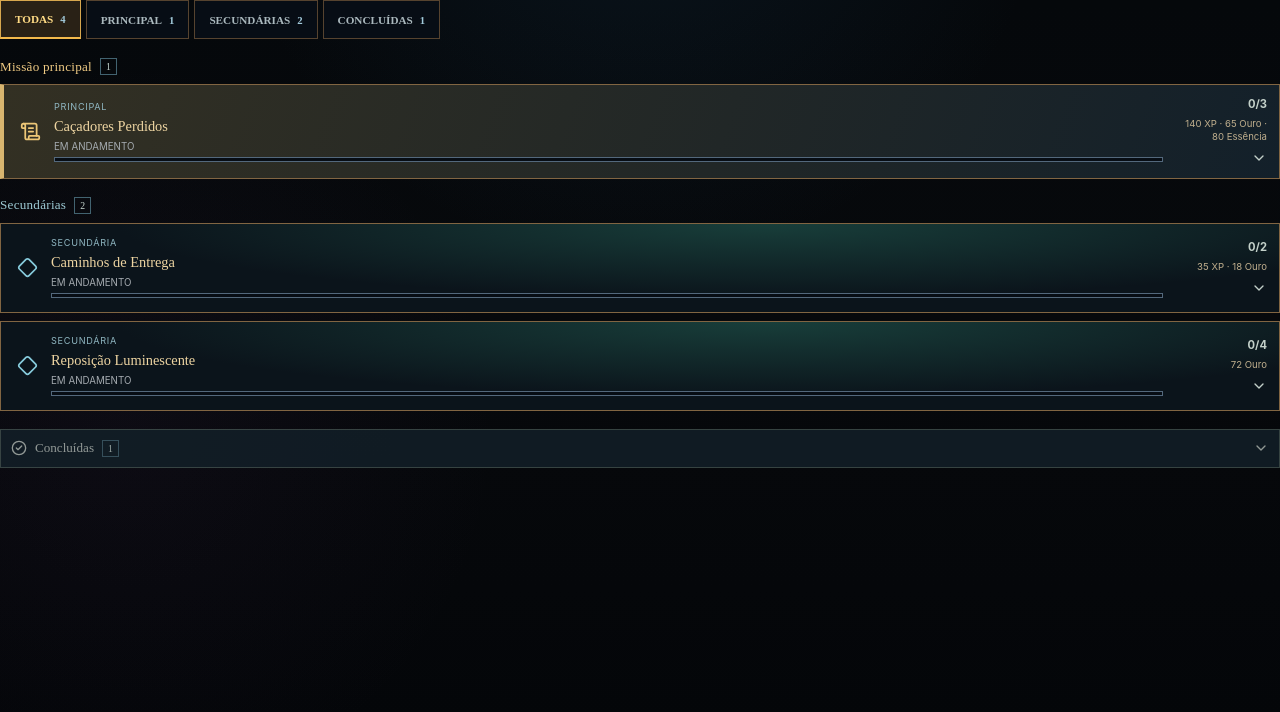
Test: Registro visual de missões › prioriza a história em andamento, empilha secundárias e deixa concluídas no final
Check: the element named "Missão principal" shows "Caçadores Perdidos", box [0, 84, 1279, 179]
Check: the element showing "Concluídas 1" does not show "O Primeiro Rastro", box [0, 429, 1279, 477]
Click the button with aria-label "Expandir missões concluídas (1)".
click(64, 448)  # box [0, 429, 1279, 468]
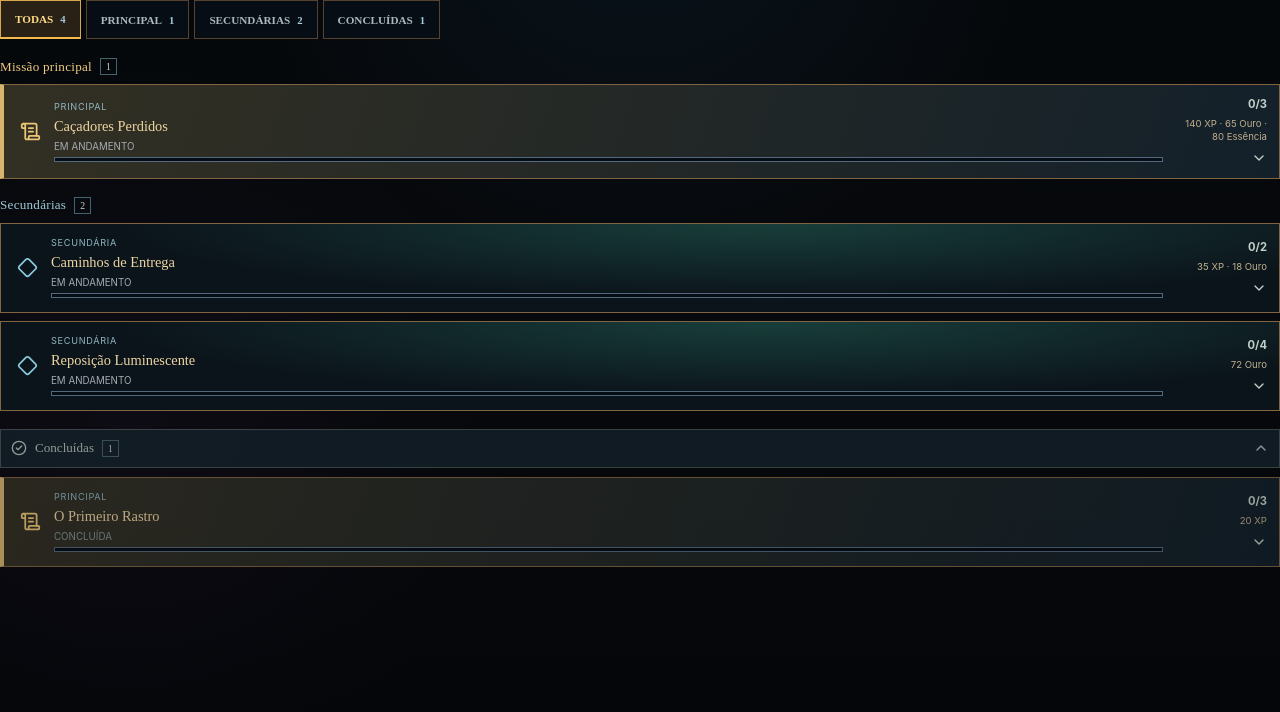
Check: the element showing "Concluídas 1 Principal O Primeiro Rastro Concluída 0/3 20 XP" is shown, box [0, 429, 1279, 567]
Click the button with aria-label "Recolher missões concluídas (1)".
click(64, 448)  # box [0, 429, 1279, 468]
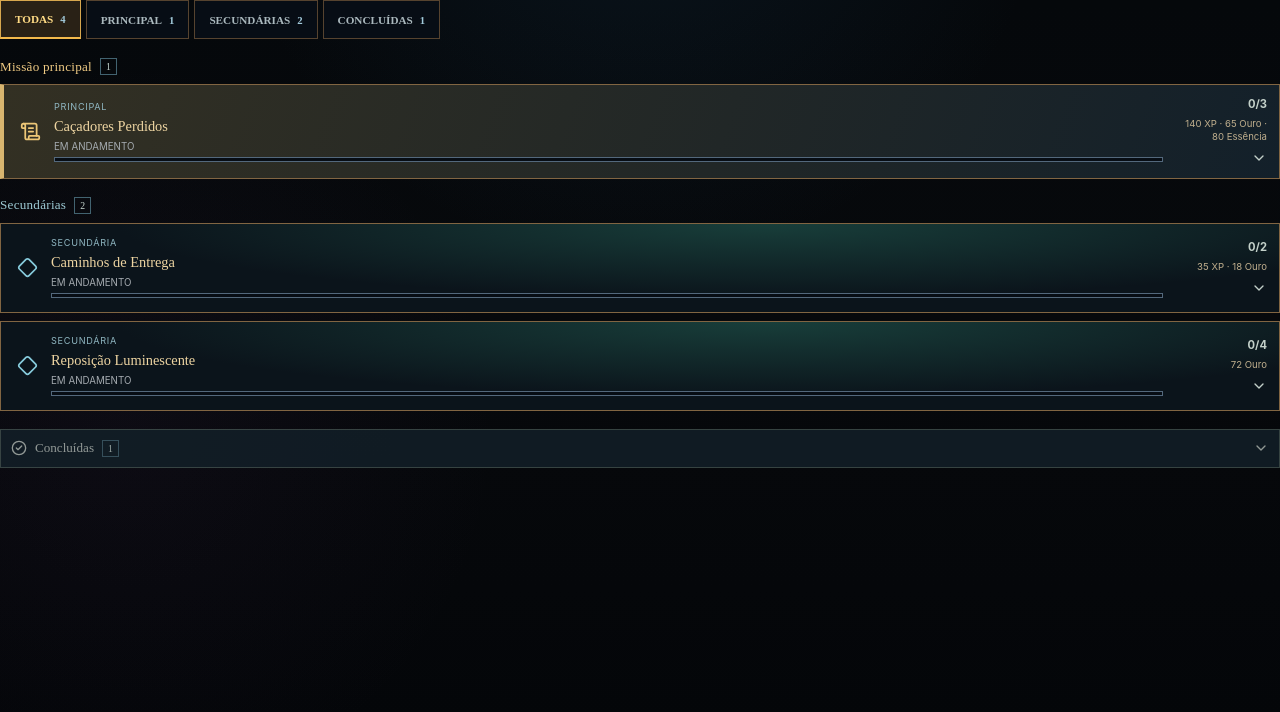
Check: the element showing "Concluídas 1" no longer shows "O Primeiro Rastro", box [0, 429, 1279, 477]
Click the button with aria-label "Detalhes da missão Caçadores Perdidos".
click(81, 107)  # box [0, 84, 1279, 179]
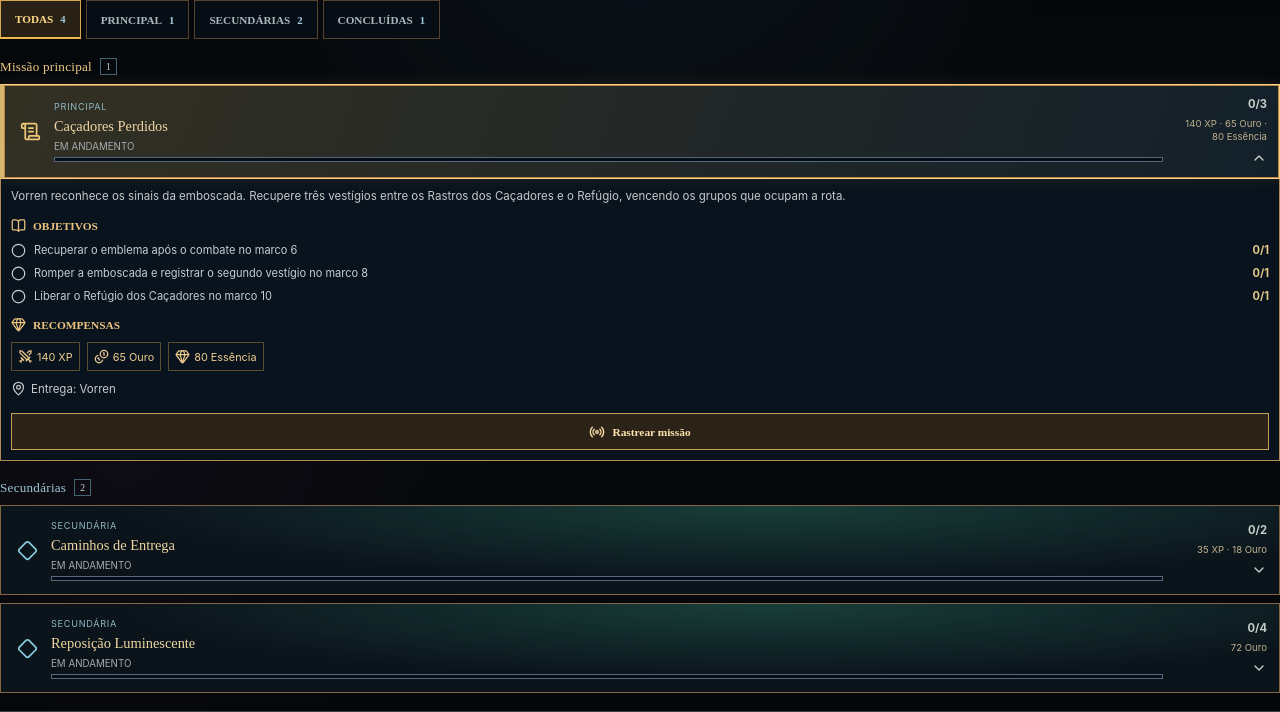
Check: the button with aria-label "Detalhes da missão Caçadores Perdidos" is expanded
Click the button with aria-label "Detalhes da missão Caçadores Perdidos".
click(81, 107)  # box [0, 84, 1279, 179]
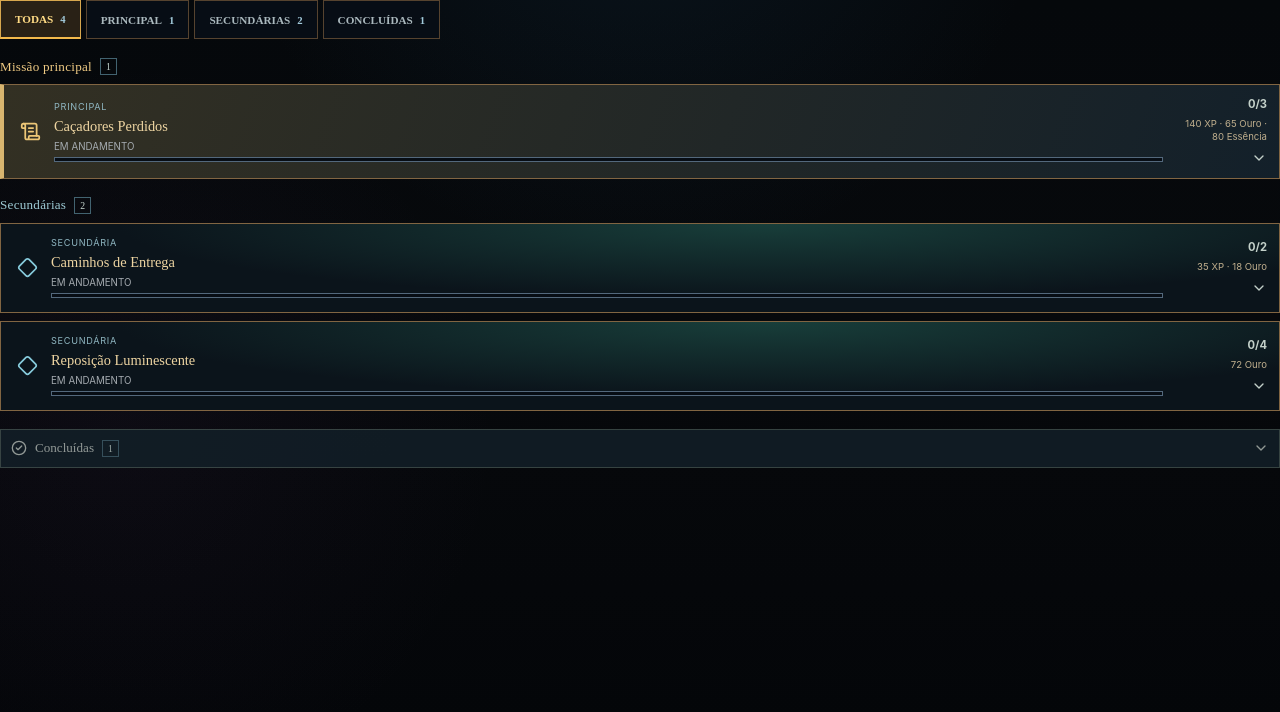
Check: the button with aria-label "Detalhes da missão Caçadores Perdidos" is collapsed, box [0, 84, 1279, 179]
